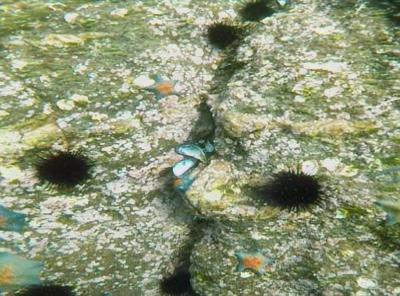urchin: (268, 166, 325, 212), (34, 147, 95, 188), (203, 19, 242, 48), (236, 0, 275, 21)
